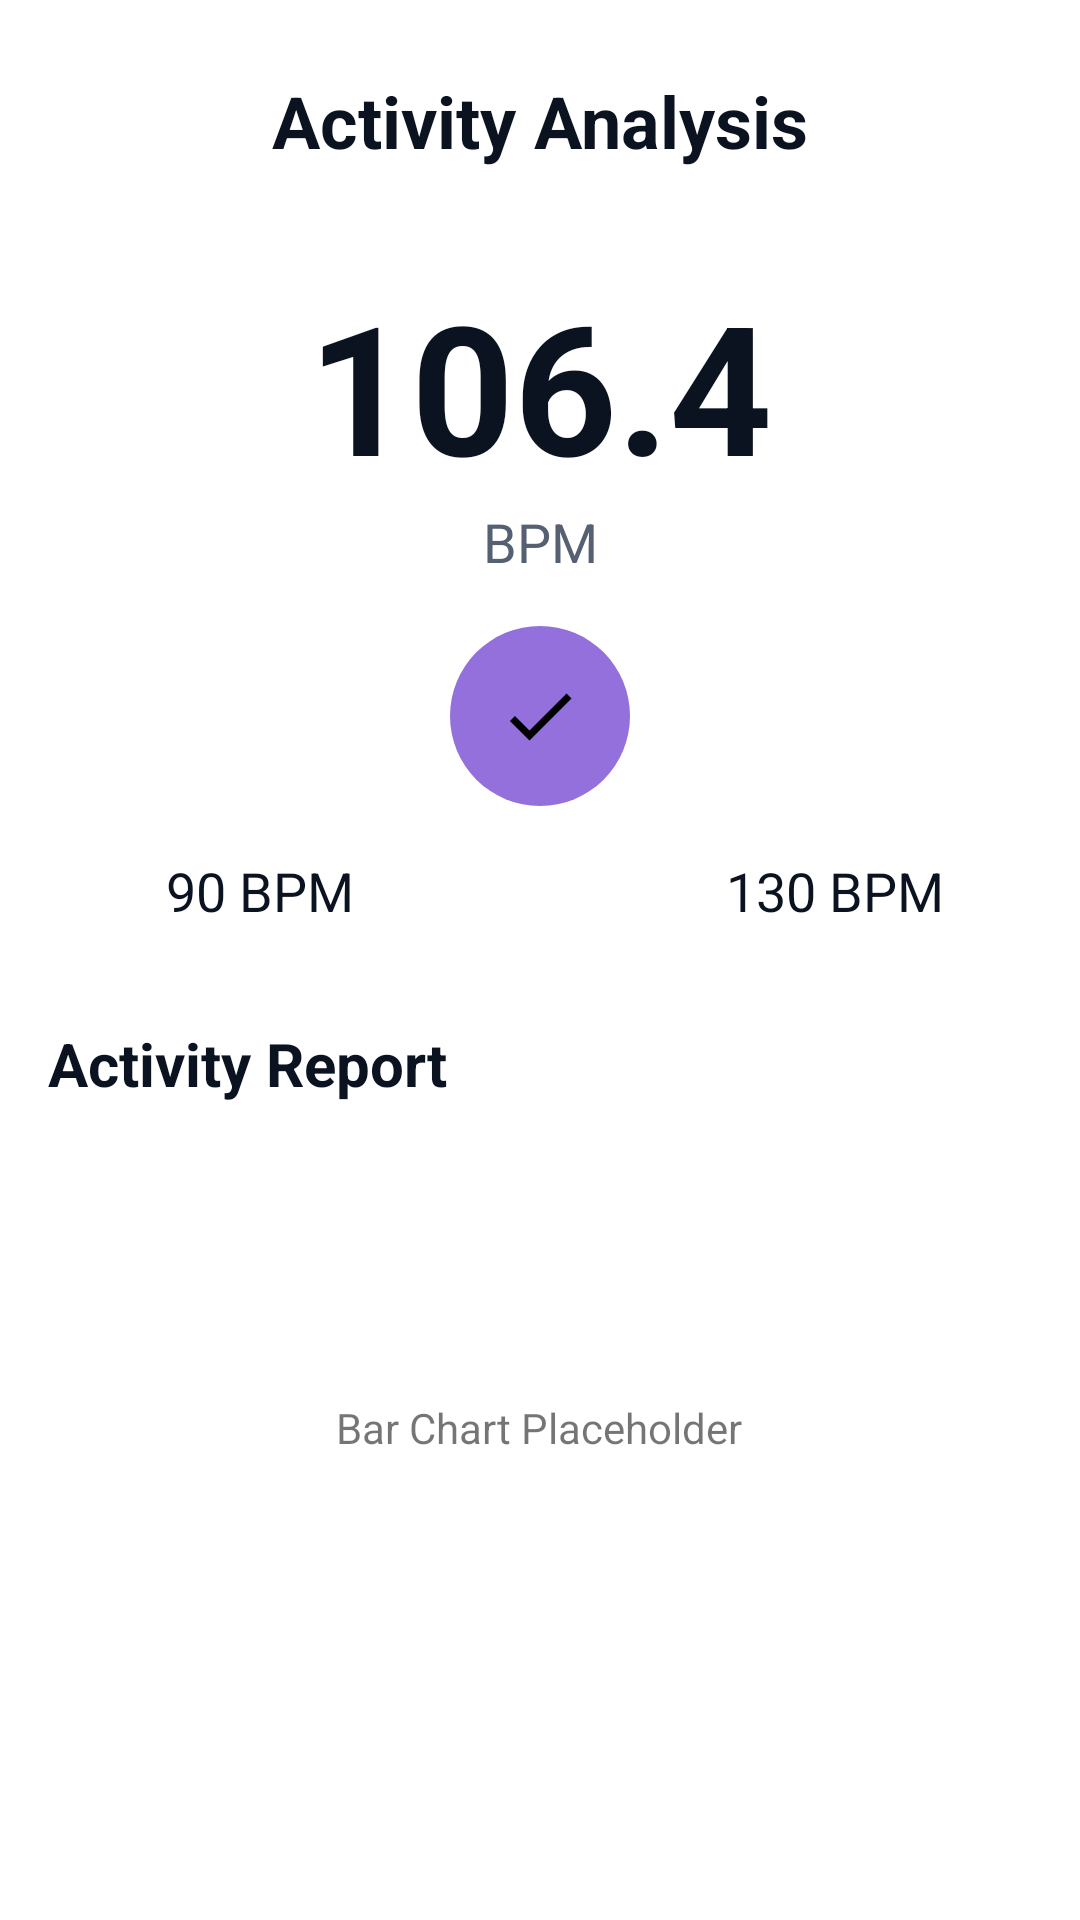

Point at icon controls on the screen. Image size 1080px×1920px, points as point (x, y).
check: point (540, 716)
